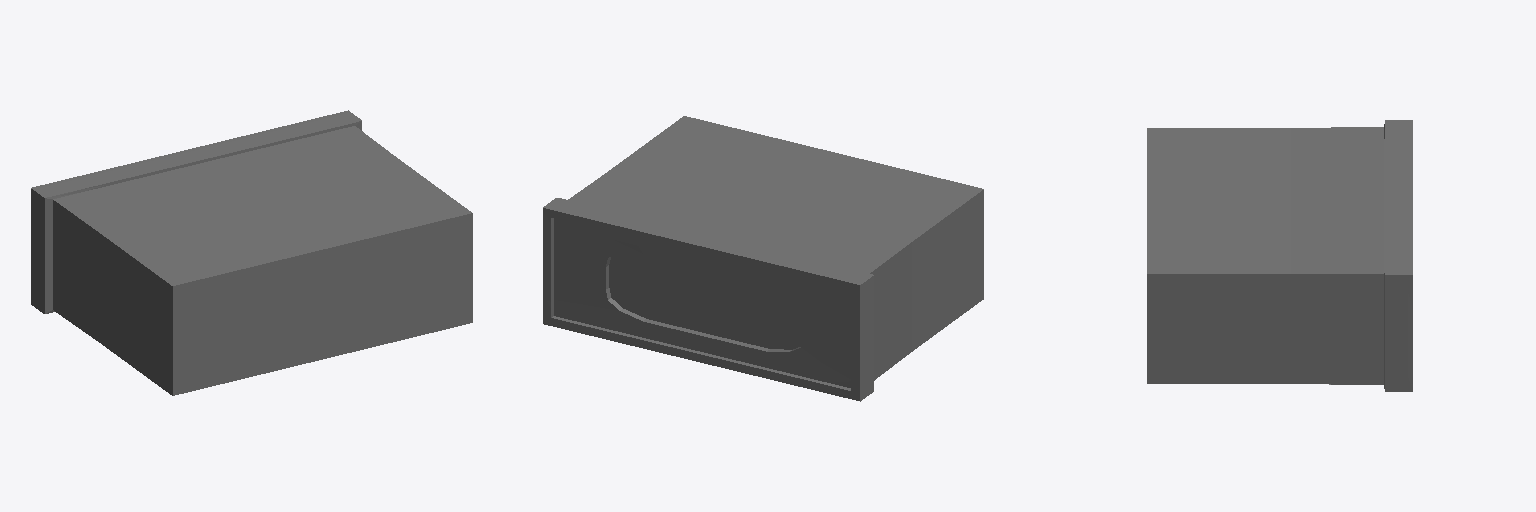
Rendered from radio.obj.
3 renders of one model, left to right at view 1: azimuth 30°, elevation 25°; view 2: azimuth 150°, elevation 25°; view 3: azimuth 270°, elevation 25°, orthographic.
Visible parts, largest first — view 1: pCube3; view 2: pCube3; view 3: pCube3.
Part boxes in pixels (x1,y1,x2,y2): pCube3: (31,110,472,395); pCube3: (543,116,983,401); pCube3: (1147,120,1412,391).
Bounding box in the file's own units: 129 × 45.23 × 93.63.